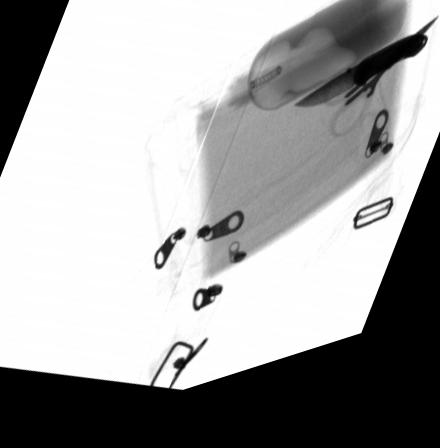Knife: (290, 57, 428, 128)
Scissors: (317, 43, 438, 159)
